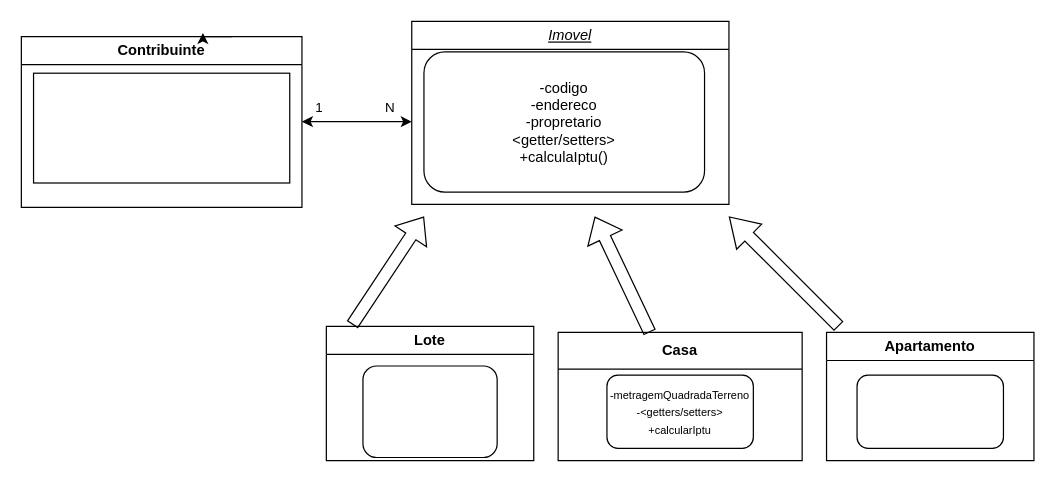
Image size: 1055x482. Some labels were removed from this diagram. Here are the shapes that lost their labels. From the top down, the centre of each, then its label:
At [161,127]: "-nome -codigo +consultarImoveis()".
At [429,411]: "-metragemQuadradaTerreno <getters/setters> +calculartIptu".
At [929,411]: "-metragemQuadradaApp -andar <getters/setters> +calcularIptu".
